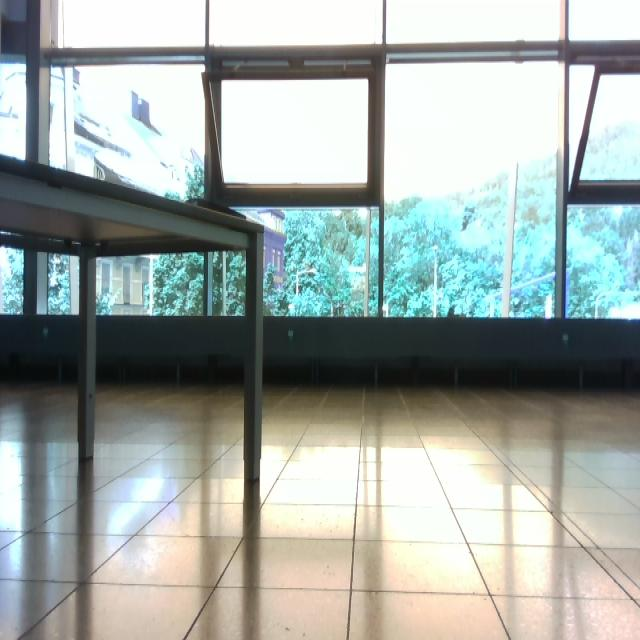door: (83, 245, 256, 480)
pillar: (77, 246, 98, 461)
tiled floor: (2, 383, 639, 639)
window: (1, 1, 640, 324)
